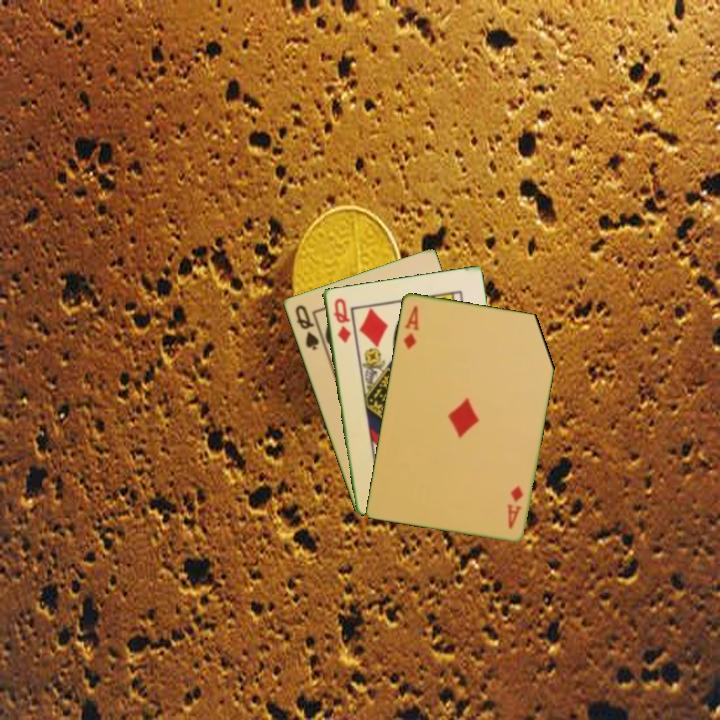Ad: (503, 481, 526, 531), (400, 302, 422, 352)
Qd: (330, 294, 353, 346)
Qs: (291, 301, 322, 353)
